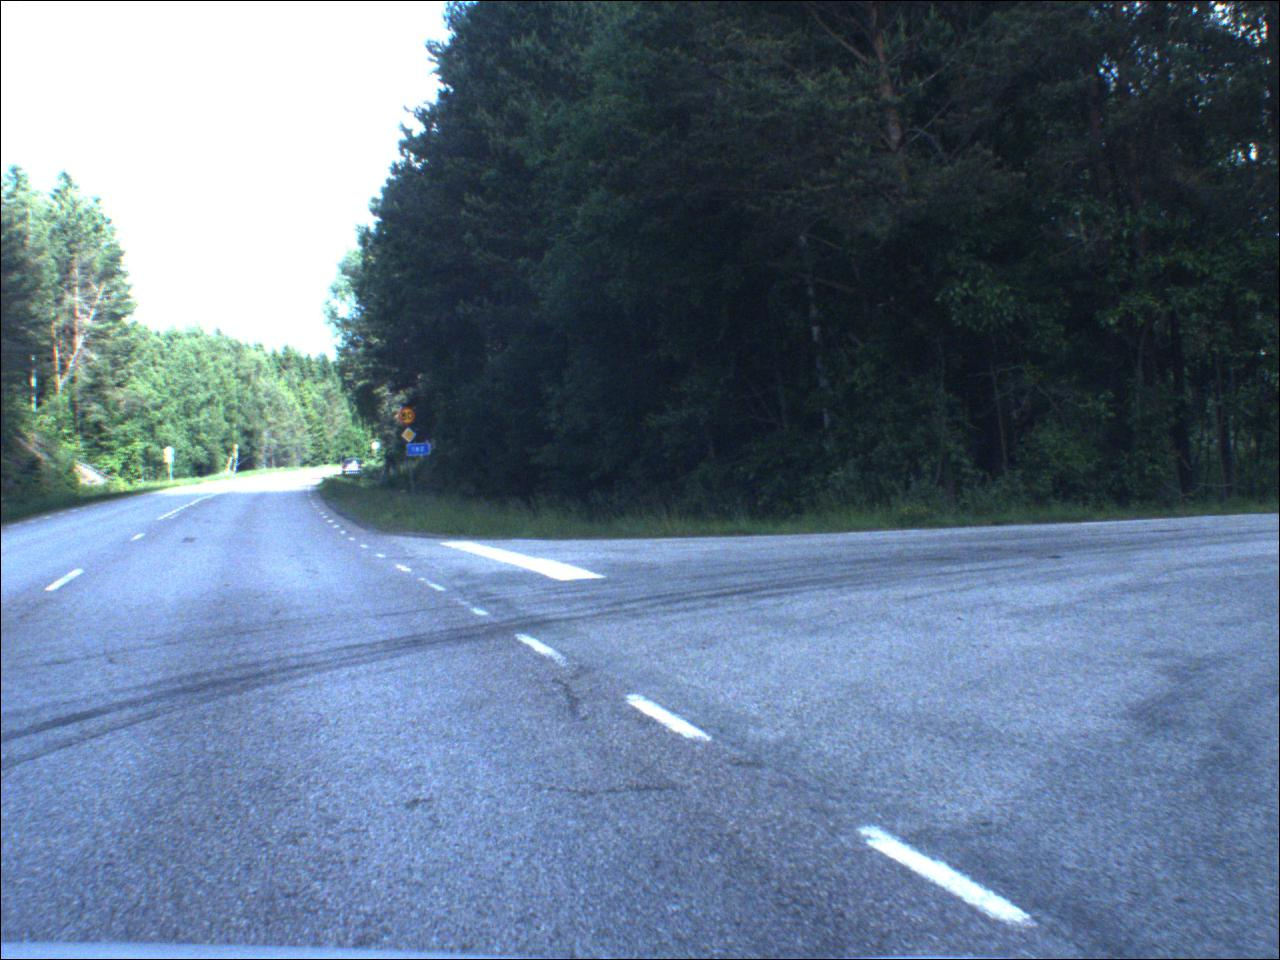80_SIGN: (400, 409, 420, 428)
PRIORITY_ROAD: (403, 428, 419, 445)
